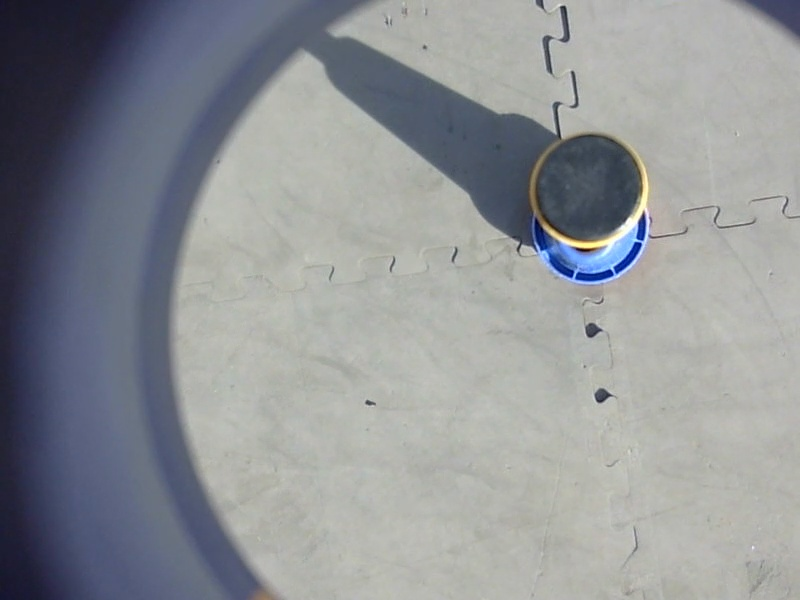tip: (521, 125, 656, 257)
